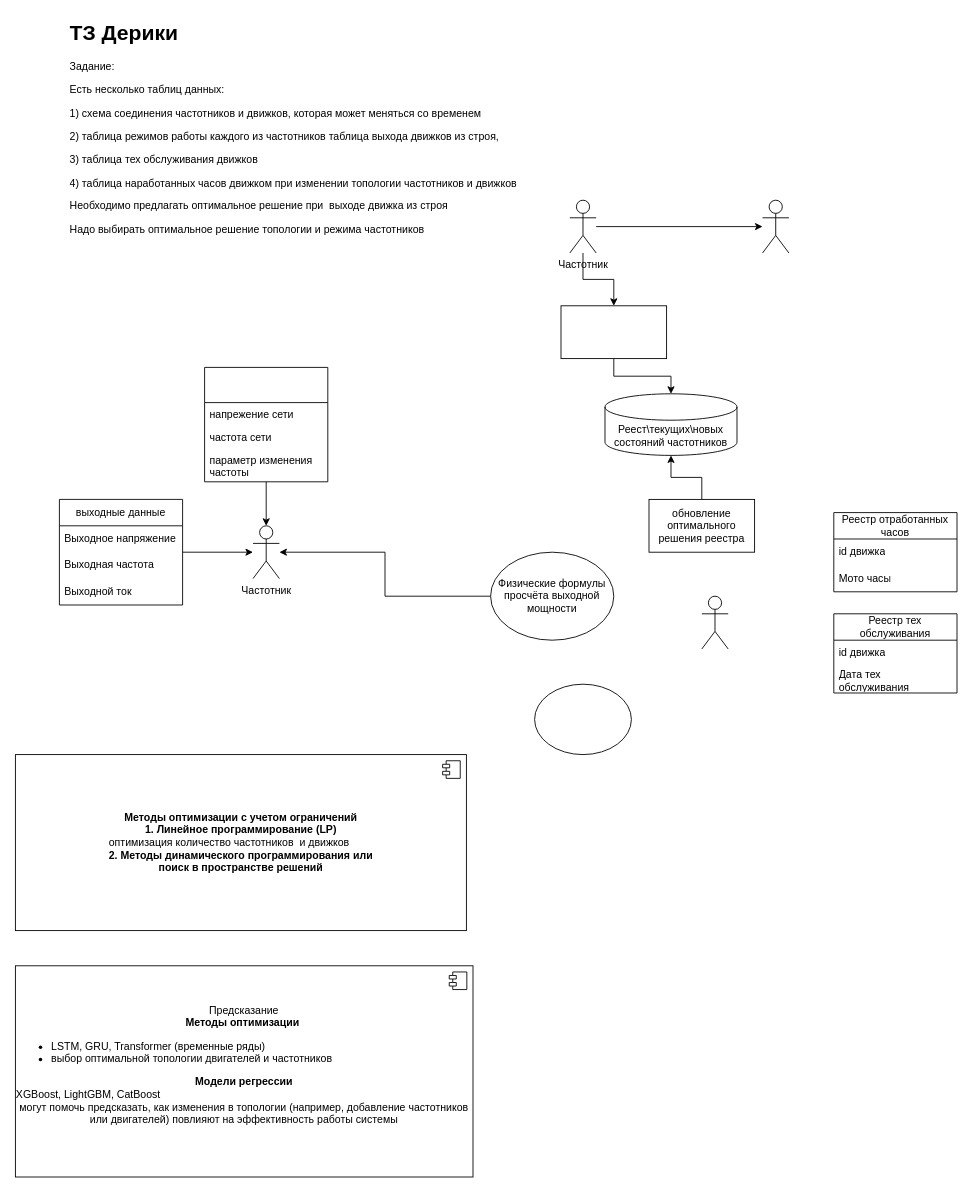
Some shapes in this 972 by 1192 pixel diagram are drawn without their labels. The shapes that lost their labels are listed below. From the top down, each one's box as (x1, y1, x2, y2) in pixels, then its label:
(762, 199, 789, 253): Движок
(560, 305, 667, 359): SQL запрос
(204, 367, 328, 482): входные данные
(701, 595, 728, 649): Анализатор переключения
(534, 683, 631, 755): Схема подключений частотников и движков
